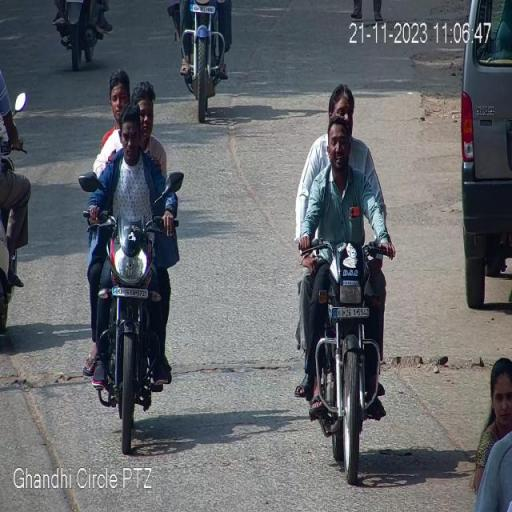tripple riding: (74, 60, 188, 254)
